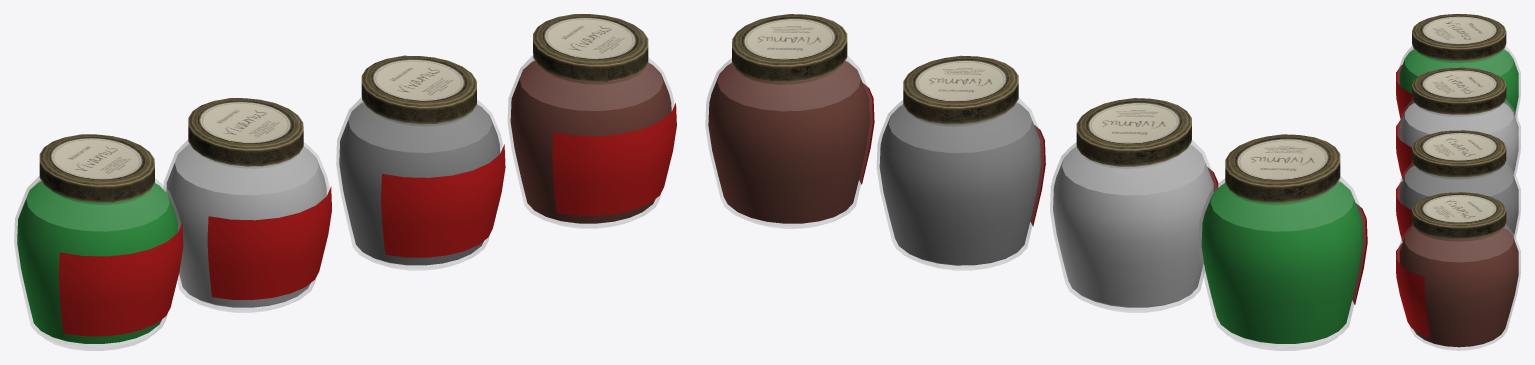
File: vasi salse.fbx
3 views of the same model, side by side, from view 1: azimuth 30°, elevation 25°; view 2: azimuth 150°, elevation 25°; view 3: azimuth 270°, elevation 25° (orthographic). The views are drawn at different scales.
Visible parts, largest first — view 1: vaso, vaso_4, vaso_3, vaso_2, salsa_3, salsa_4, salsa, salsa_2, etichetta_3, etichetta_4, etichetta, etichetta_2 (+4 smaller); view 2: vaso, vaso_3, vaso_4, vaso_2, salsa_4, salsa_3, salsa, salsa_2, cap_3, cap_4, cap, cap_2 (+3 smaller); view 3: vaso_4, salsa_4, cap_3, cap_4, cap_2, cap, vaso_2, vaso_3, salsa_2, salsa_3, vaso, salsa (+4 smaller).
Boxes of the visible parts, x1,y1,x2,y2 form: vaso: [14, 176, 180, 350]; vaso_4: [508, 56, 674, 228]; vaso_3: [336, 97, 502, 270]; vaso_2: [163, 140, 329, 312]; salsa_3: [339, 102, 500, 265]; salsa_4: [510, 61, 671, 223]; salsa: [17, 181, 178, 343]; salsa_2: [166, 145, 326, 307]; etichetta_3: [381, 144, 505, 257]; etichetta_4: [552, 103, 676, 215]; etichetta: [58, 223, 183, 336]; etichetta_2: [207, 186, 331, 299]; vaso: [1198, 176, 1365, 350]; vaso_3: [877, 98, 1043, 270]; vaso_4: [705, 56, 872, 228]; vaso_2: [1050, 140, 1216, 312]; salsa_4: [708, 61, 869, 223]; salsa_3: [879, 103, 1040, 265]; salsa: [1201, 181, 1362, 343]; salsa_2: [1053, 145, 1213, 307]; cap_3: [903, 55, 1018, 124]; cap_4: [732, 14, 847, 82]; cap: [1225, 134, 1340, 202]; cap_2: [1076, 98, 1191, 166]; vaso_4: [1397, 224, 1520, 350]; salsa_4: [1399, 228, 1518, 347]; cap_3: [1412, 130, 1506, 177]; cap_4: [1412, 192, 1506, 239]; cap_2: [1412, 67, 1506, 114]; cap: [1412, 14, 1506, 60]; vaso_2: [1397, 99, 1520, 177]; vaso_3: [1397, 162, 1520, 239]; salsa_2: [1399, 103, 1518, 174]; salsa_3: [1399, 166, 1518, 236]; vaso: [1397, 46, 1520, 118]; salsa: [1399, 49, 1518, 115].
Bounding box in the file's own units: 75.15 × 18.91 × 17.17.
